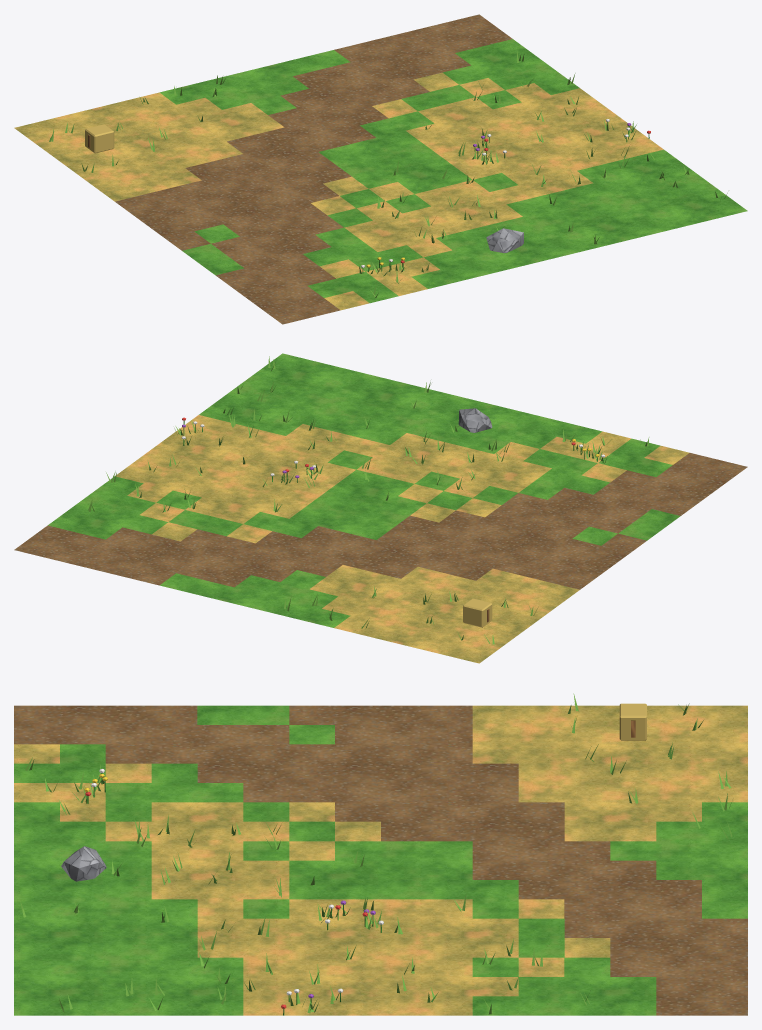
File: chunk_2_12.glb
3 renders of one model, top to bottom at view 1: azimuth 30°, elevation 25°; view 2: azimuth 150°, elevation 25°; view 3: azimuth 270°, elevation 25°, orthographic. The views are drawn at different scales.
Parts seen in each view (by area): view 1: chunk_2_12; view 2: chunk_2_12; view 3: chunk_2_12.
Part boxes in pixels (x1,y1,x2,y2): chunk_2_12: (14,14,747,324); chunk_2_12: (14,353,747,663); chunk_2_12: (14,693,747,1015).
Size of the model in its own units: 16.09 by 0.8687 by 16.
Materials: 12 (6 with a texture image).
